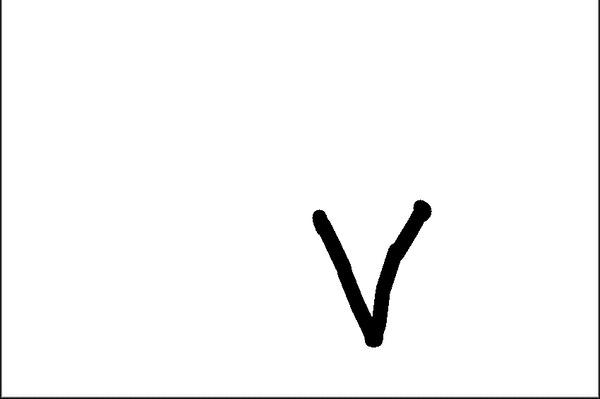V: (302, 195, 439, 347)
